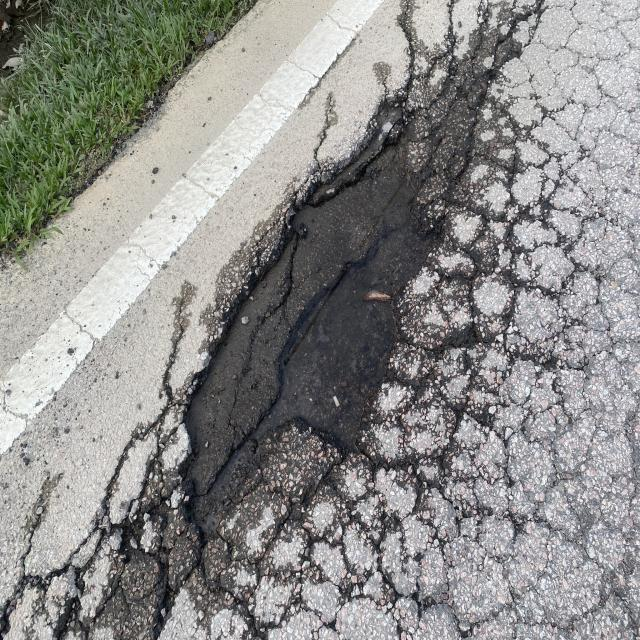pothole: (142, 42, 509, 556)
